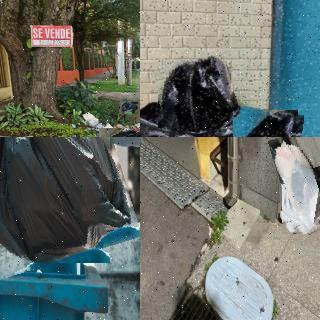Garbage: (0, 137, 126, 271), (154, 56, 237, 134), (275, 137, 320, 236), (229, 107, 301, 137), (97, 124, 140, 137), (119, 98, 139, 114)
